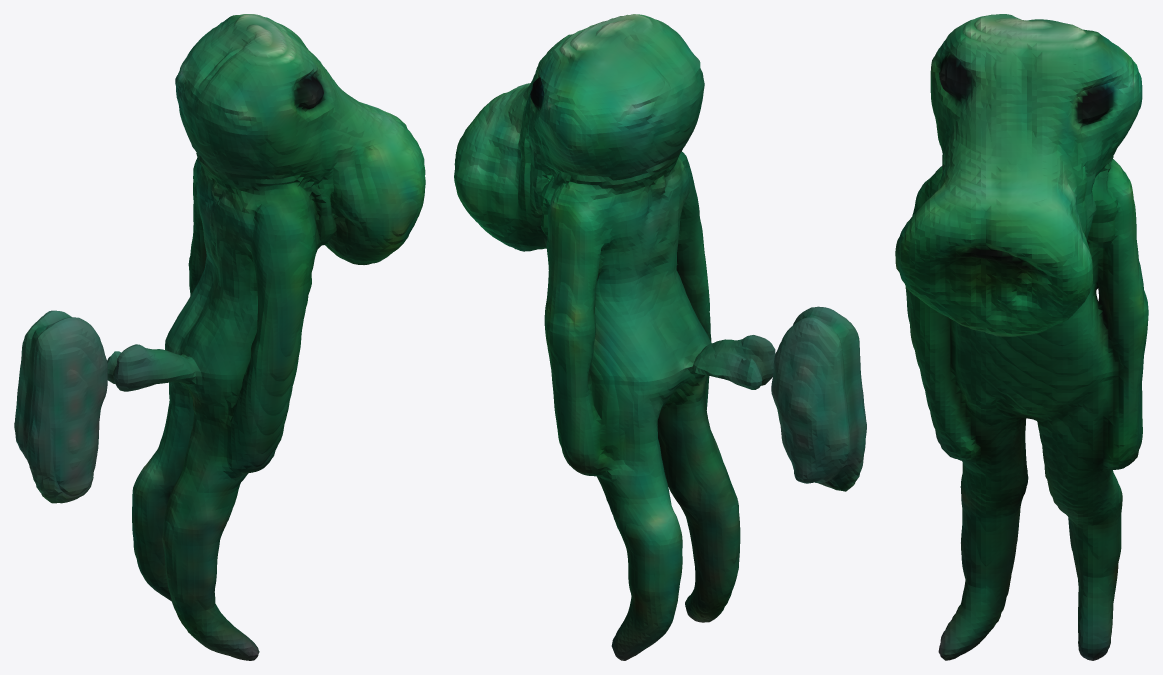
File: meshsave_8_.fbx
The picture shows the model from 3 angles, left to right: view 1: azimuth 30°, elevation 25°; view 2: azimuth 150°, elevation 25°; view 3: azimuth 270°, elevation 25°; orthographic projection. The views are drawn at different scales.
Visible parts, largest first — view 1: meshsave_8_; view 2: meshsave_8_; view 3: meshsave_8_.
Part boxes in pixels (x1,y1,x2,y2): meshsave_8_: [14, 14, 425, 660]; meshsave_8_: [454, 14, 866, 660]; meshsave_8_: [895, 14, 1148, 660].
Size of the model in its own units: 65.99 by 98 by 33.93.
